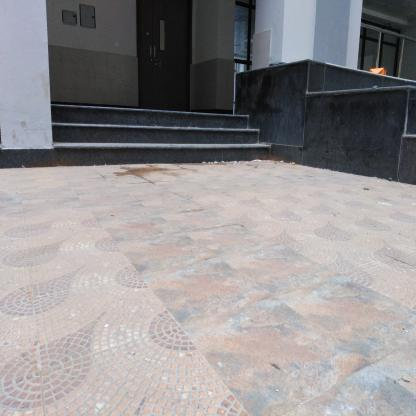stairs: (60, 112, 244, 170)
